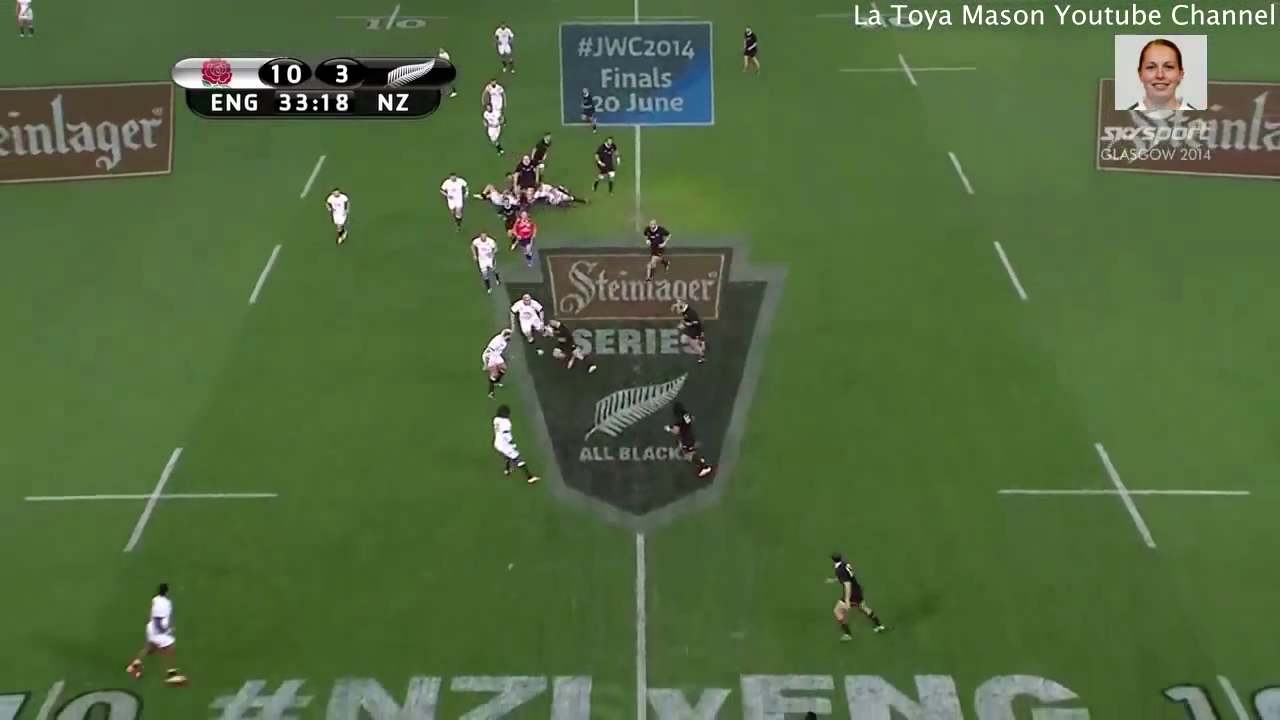10_metre: (985, 437, 1253, 565), (841, 50, 979, 94)
player: (122, 581, 186, 693), (820, 552, 888, 649), (479, 406, 545, 488), (661, 397, 714, 478), (633, 214, 676, 285), (316, 183, 358, 253), (672, 295, 709, 364), (549, 313, 588, 378), (433, 170, 473, 233), (478, 330, 512, 400), (505, 294, 549, 348), (587, 136, 625, 198), (466, 228, 502, 289), (489, 19, 521, 83), (736, 24, 767, 80), (477, 100, 510, 152), (5, 1, 40, 43), (506, 214, 535, 261), (475, 79, 511, 107), (516, 157, 537, 205), (576, 88, 597, 131), (534, 131, 556, 157)
ruck: (478, 168, 586, 208)
